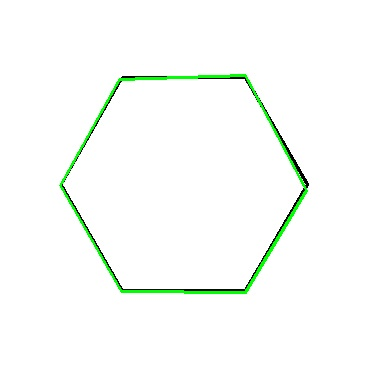line_segment: (60, 75, 310, 293)
